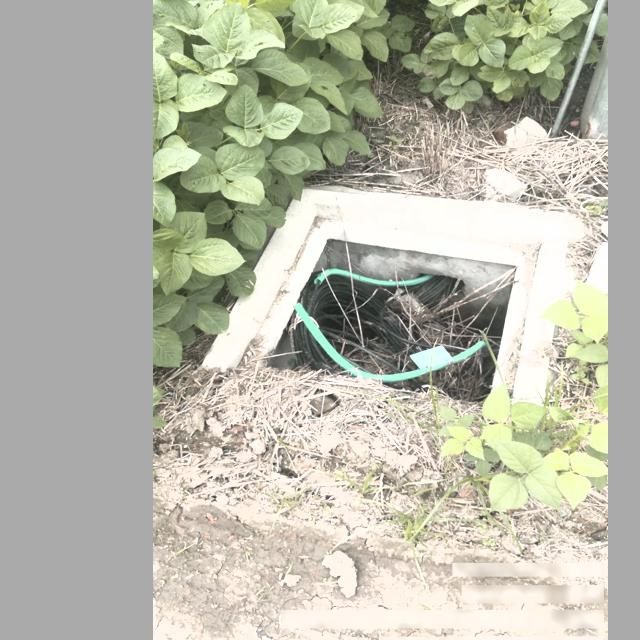lose: (190, 186, 574, 428)
